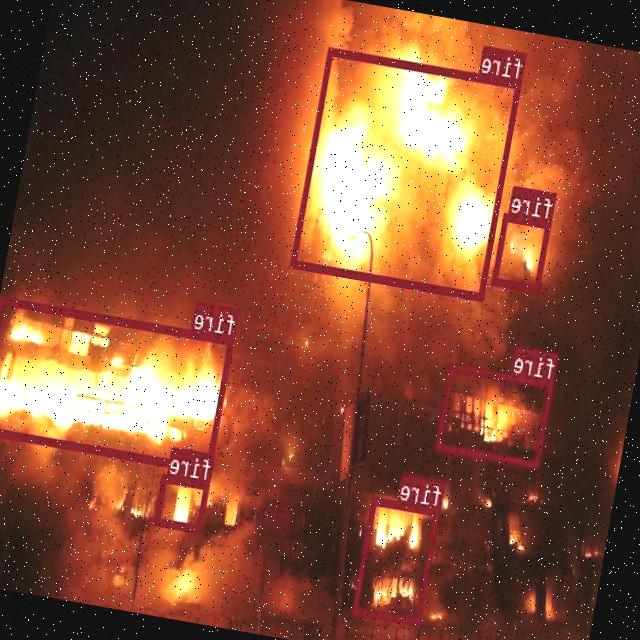fire: (290, 47, 522, 300), (0, 294, 235, 471), (436, 362, 556, 467), (352, 495, 442, 624), (492, 212, 552, 291), (154, 473, 210, 532)
